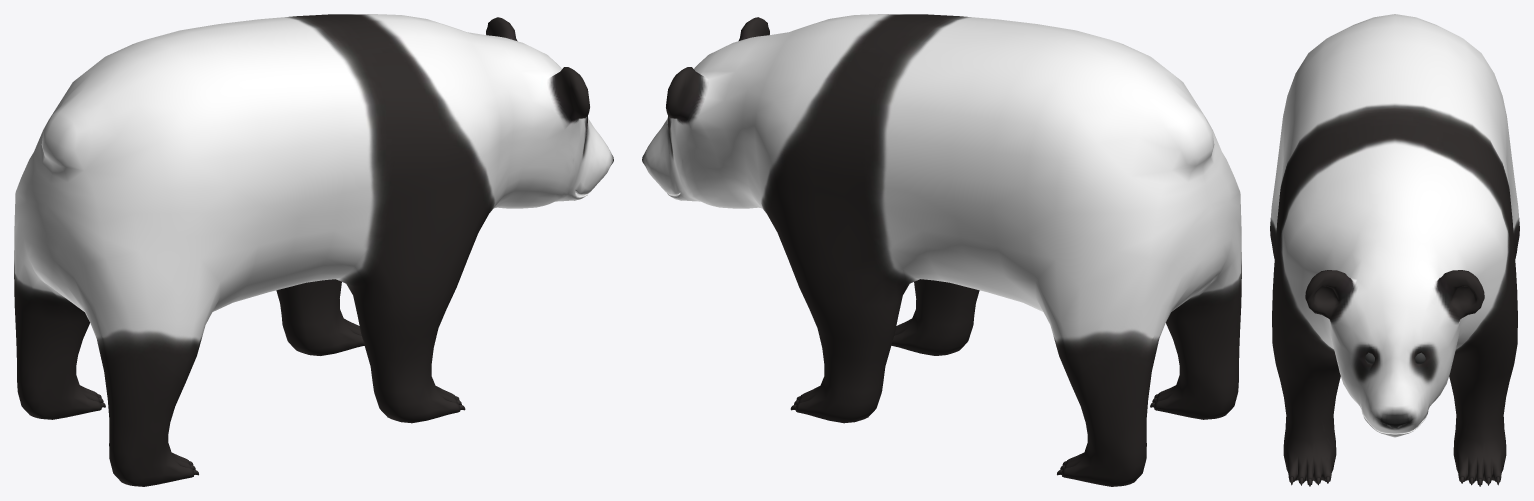
The model's file is panda.glb.
3 renders of one model, left to right at view 1: azimuth 30°, elevation 25°; view 2: azimuth 150°, elevation 25°; view 3: azimuth 270°, elevation 25°, orthographic. The views are drawn at different scales.
Bounding box in the file's own units: 1.56 × 1 × 0.6423.
2 materials, 1 textured.
